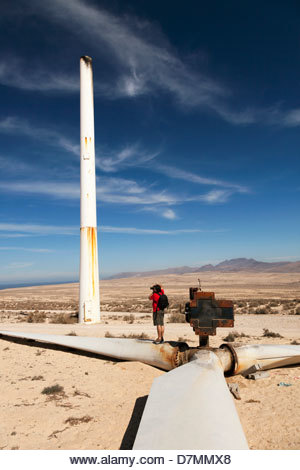faulty: (63, 49, 114, 246), (173, 280, 261, 393)
